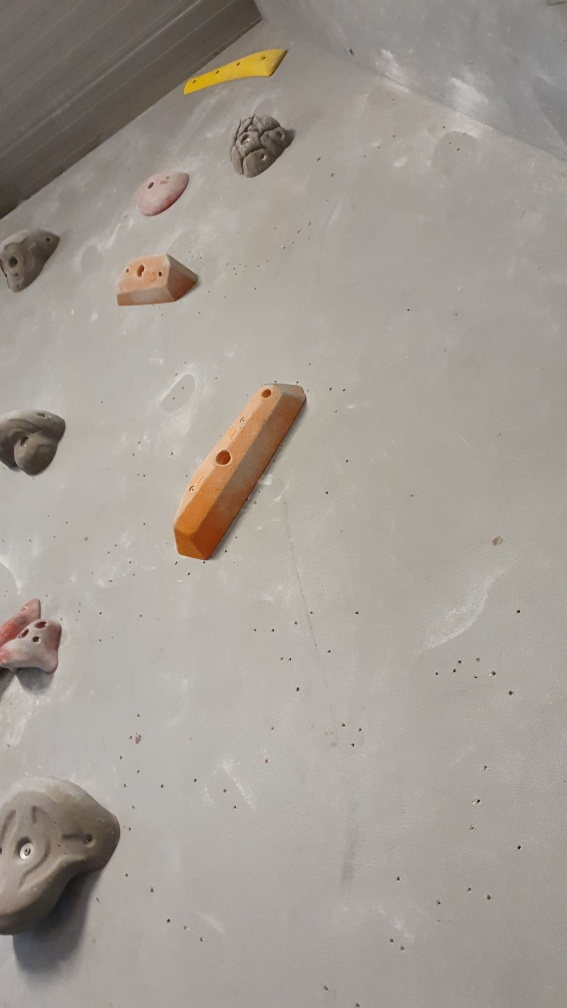Crimp: (183, 48, 291, 94)
Jug: (1, 778, 122, 938), (1, 401, 72, 476), (1, 223, 65, 295), (230, 114, 294, 178), (1, 620, 64, 678)
Pinch: (173, 381, 307, 563), (115, 255, 202, 307)
